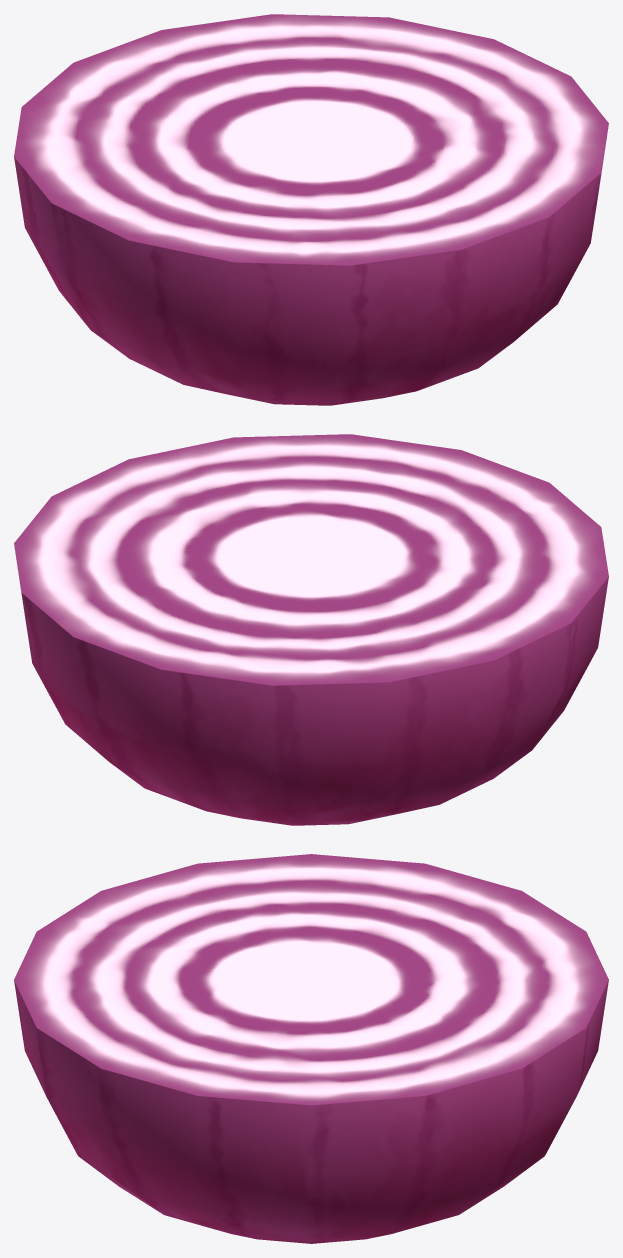
File: onion_bottom.glb
The picture shows the model from 3 angles, top to bottom: view 1: azimuth 30°, elevation 25°; view 2: azimuth 150°, elevation 25°; view 3: azimuth 270°, elevation 25°; orthographic projection.
Visible parts, largest first — view 1: OnionBottomB, OnionBottomA; view 2: OnionBottomB, OnionBottomA; view 3: OnionBottomB, OnionBottomA.
Boxes of the visible parts, <box> form: OnionBottomB: <box>14,14,608,265</box>; OnionBottomA: <box>14,139,606,405</box>; OnionBottomB: <box>14,434,608,685</box>; OnionBottomA: <box>16,559,608,825</box>; OnionBottomB: <box>14,854,608,1105</box>; OnionBottomA: <box>14,980,608,1243</box>.
Bounding box in the file's own units: 1.01 × 0.4639 × 1.01.
Materials: 1 (1 with a texture image).
